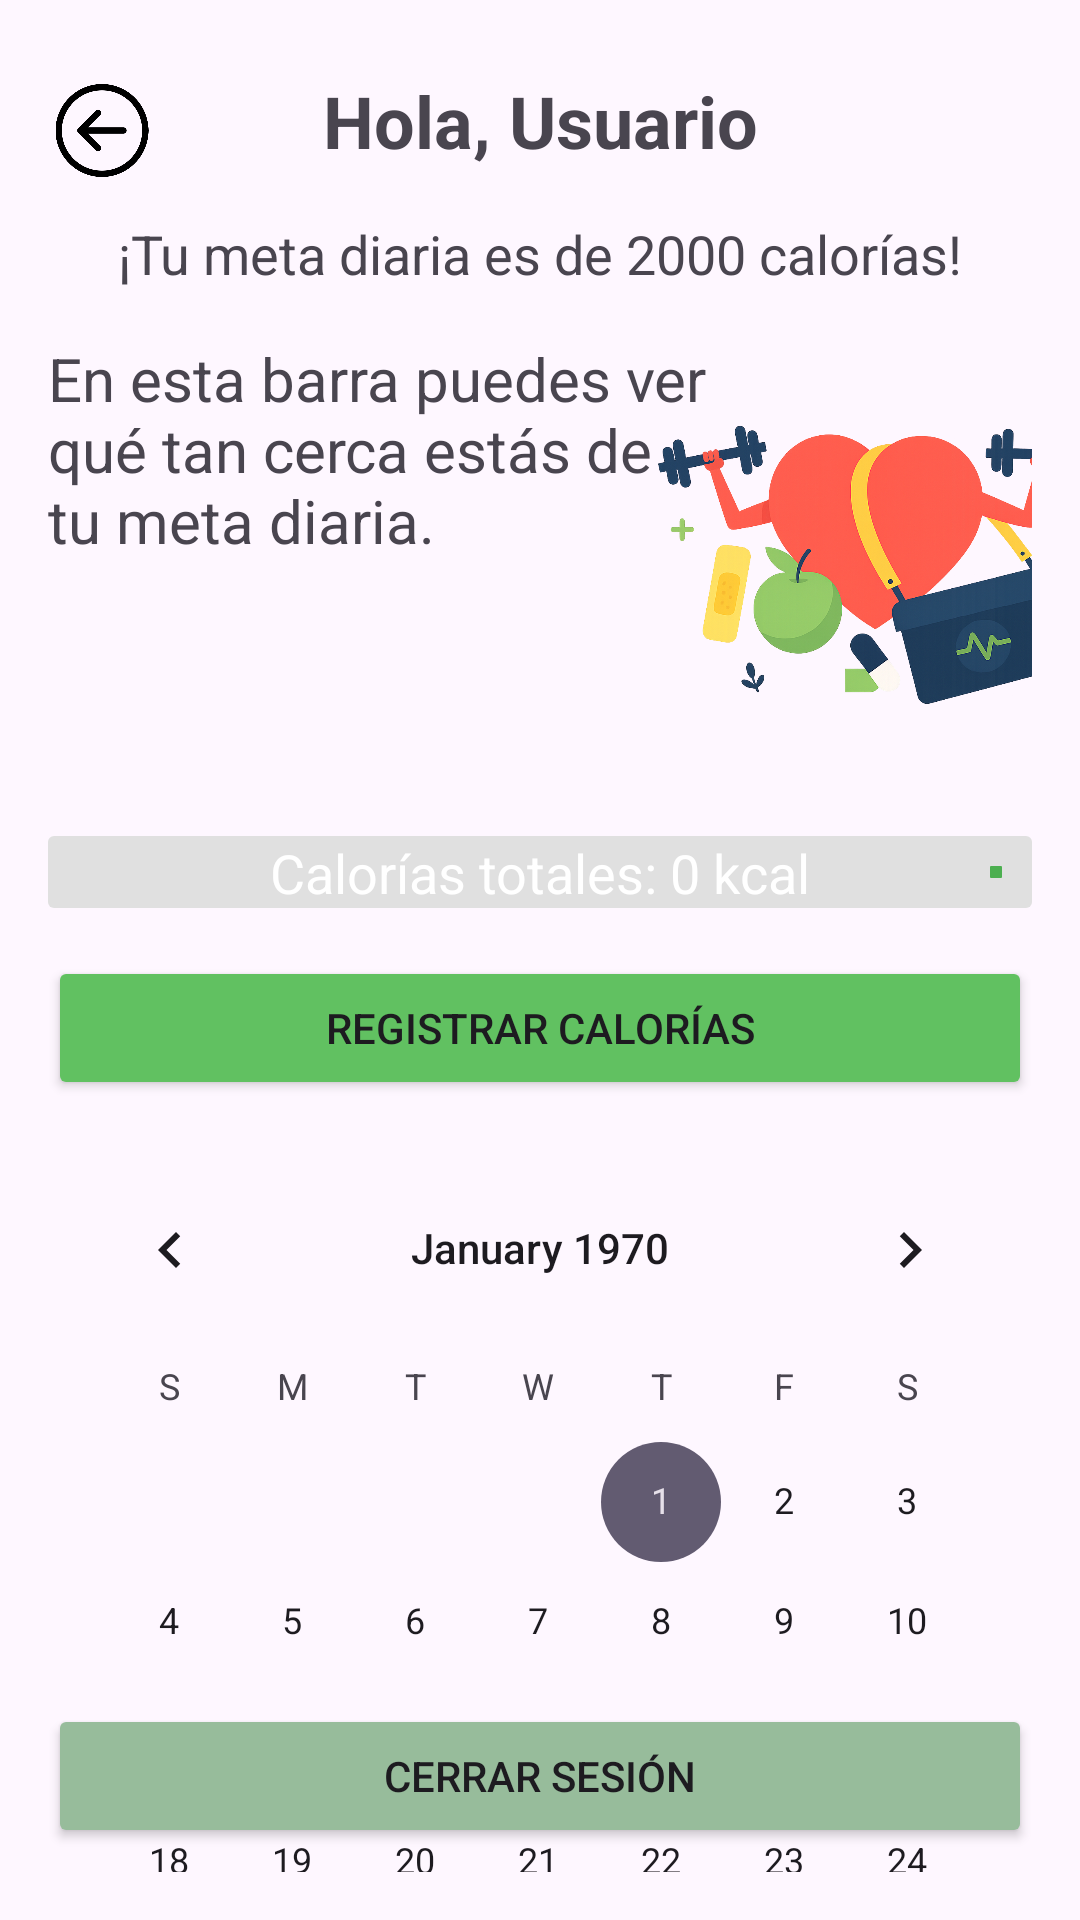

Named icons in this screenshot (1080 × 1920) and their bounding boxes, Rect(x1, y1, x2, y2):
back: Rect(56, 84, 149, 177)
